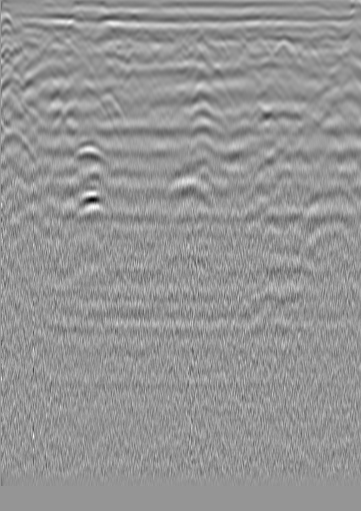가스: (65, 185, 107, 223)
상수: (339, 27, 359, 47)
오수: (1, 17, 21, 37)
우수: (169, 32, 189, 52)
